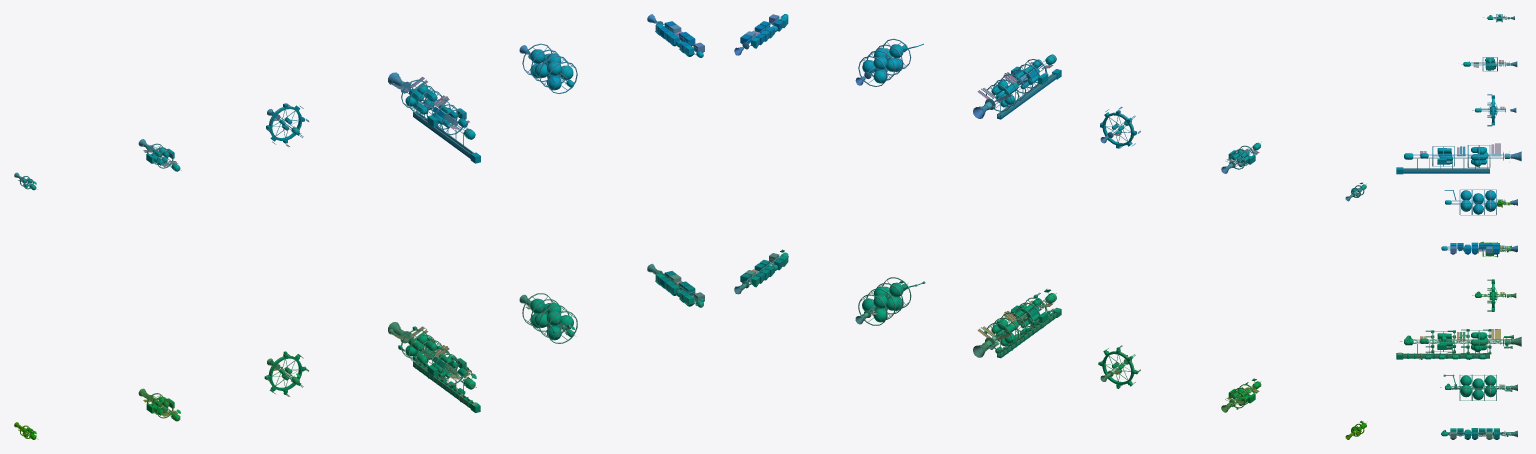
The model's file is holds-ships-s3OmQXZb.glb.
The picture shows the model from 3 angles, left to right: view 1: azimuth 30°, elevation 25°; view 2: azimuth 150°, elevation 25°; view 3: azimuth 270°, elevation 25°; orthographic projection. The views are drawn at different scales.
Visible parts, largest first — view 1: holds_ships; view 2: holds_ships; view 3: holds_ships.
Part boxes in pixels (x1,y1,x2,y2): holds_ships: (14,14,704,439); holds_ships: (734,14,1366,439); holds_ships: (1396,14,1521,439).
Size of the model in its own units: 8.19 by 3.54 by 1.84.
